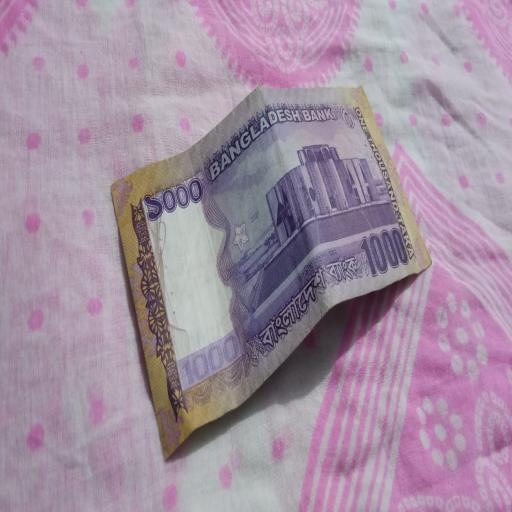1000taka: (112, 81, 431, 465)
